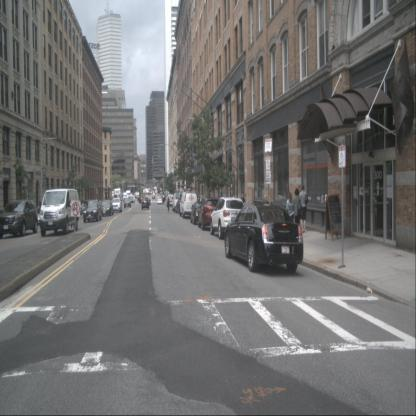human-pedestrian-adult: (292, 187, 301, 240), (300, 183, 308, 234), (286, 192, 294, 242), (262, 193, 270, 230), (240, 192, 246, 224), (166, 195, 170, 215)
vehicle-car: (224, 204, 304, 273), (39, 188, 79, 237), (0, 199, 39, 240), (210, 196, 246, 240), (198, 196, 221, 230), (180, 192, 198, 219), (191, 201, 210, 225), (83, 199, 102, 223), (172, 192, 185, 212), (100, 200, 113, 216), (111, 197, 122, 213), (174, 201, 186, 214), (141, 197, 150, 209), (166, 195, 175, 207), (157, 196, 165, 205), (138, 196, 144, 204), (145, 197, 150, 205), (130, 196, 134, 203)
vehicle-truck: (113, 188, 122, 204), (124, 198, 131, 208), (123, 192, 128, 202), (126, 190, 131, 199)
